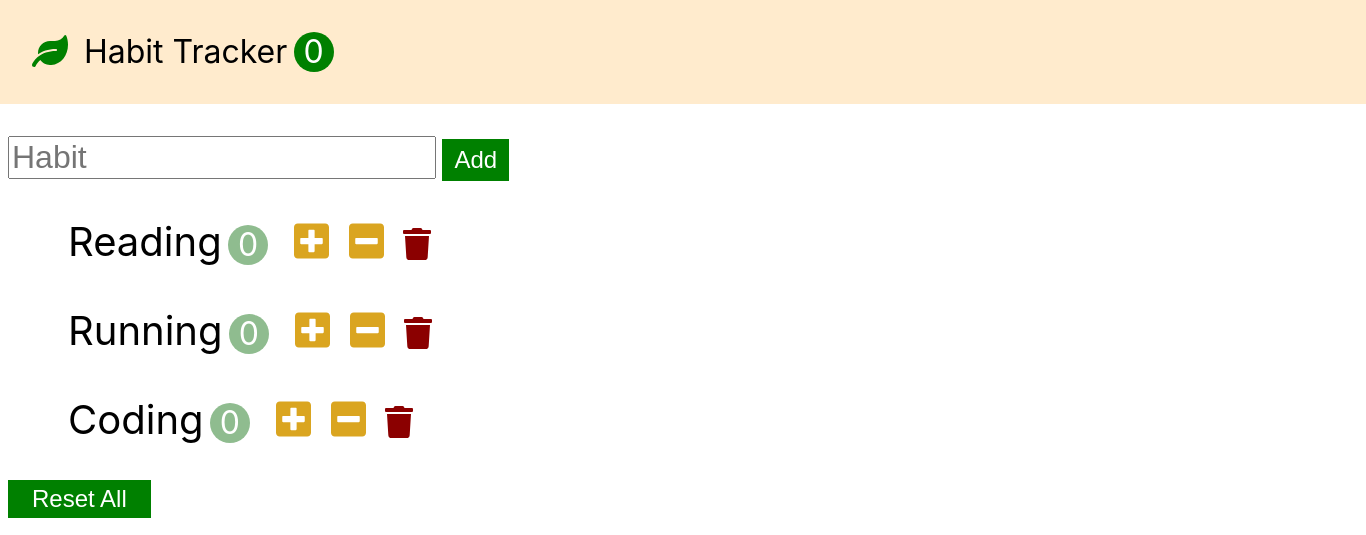
해빗 트래커 › 각 습관의 감소 버튼을 클릭하면 카운트를 1 감소 시킬 수 있다.
The width and height of the screenshot is (1366, 535).
Click the button titled "increase" in the row of "Reading" at point(312, 243), box [288,219,335,266]
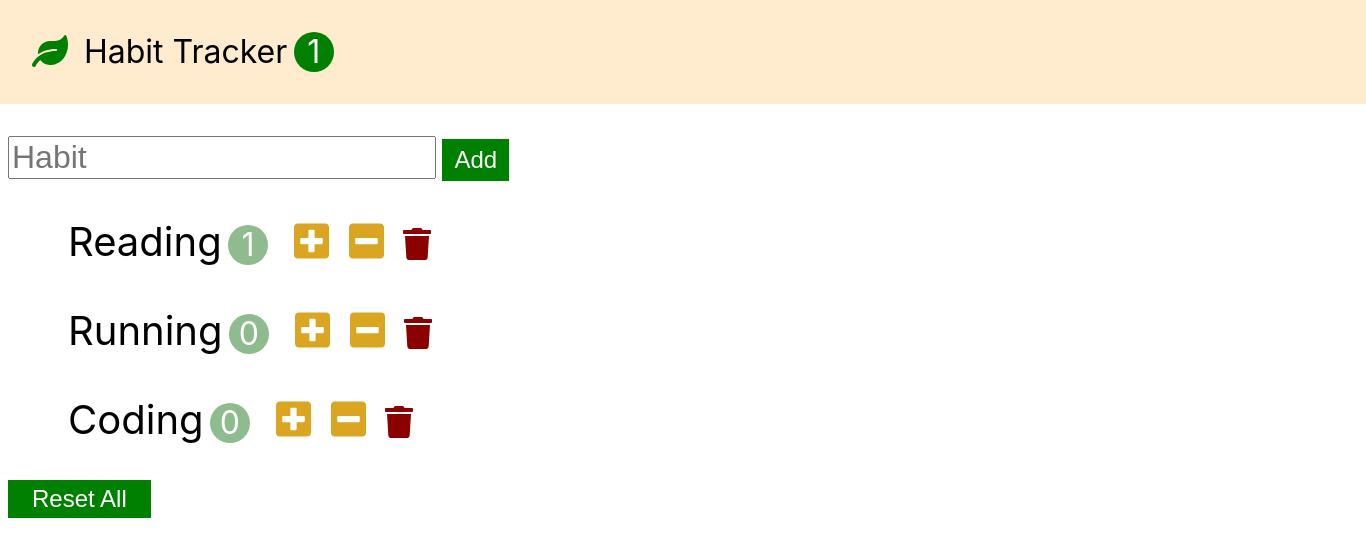
Click the button titled "increase" in the row of "Reading" at point(312, 243), box [288,219,335,266]
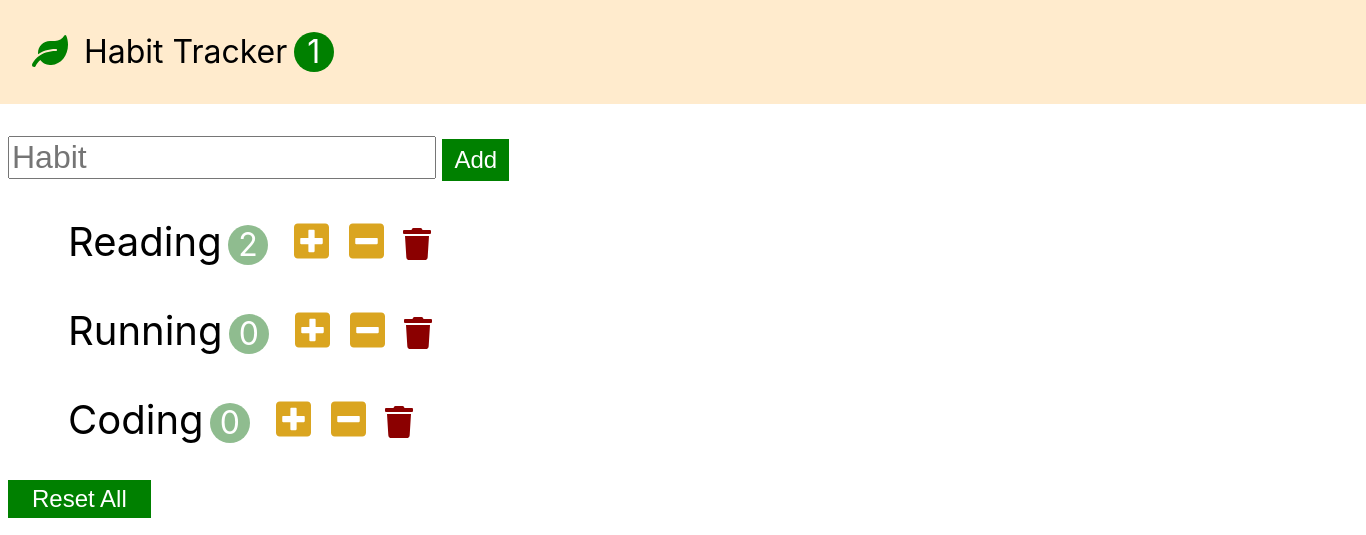
Click the button titled "increase" in the row of "Reading" at point(312, 243), box [288,219,335,266]
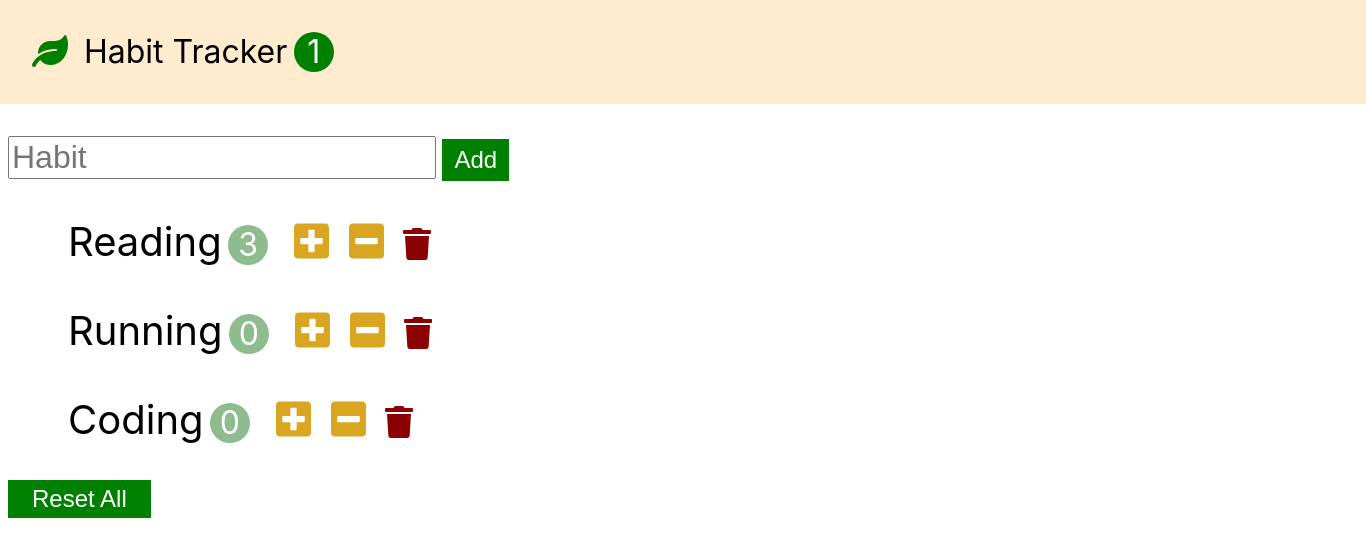
Click the button titled "decrease" in the row of "Reading" at point(367, 243), box [343,219,390,266]
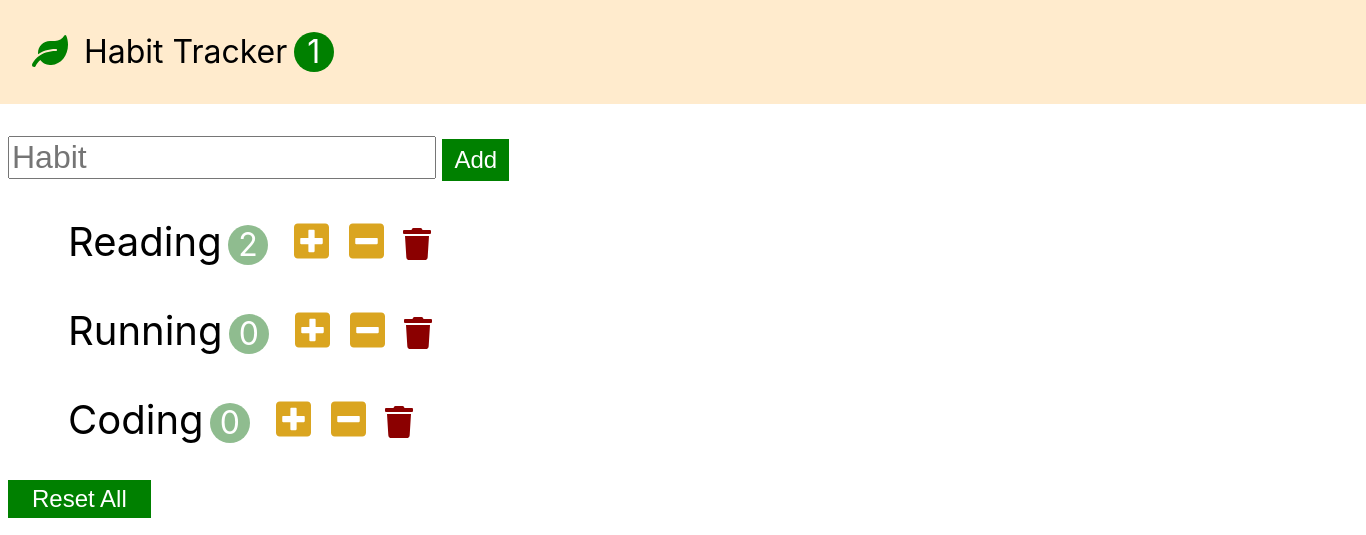
Check: the text with test id "habit-count" reads "2", box [228,225,268,265]
